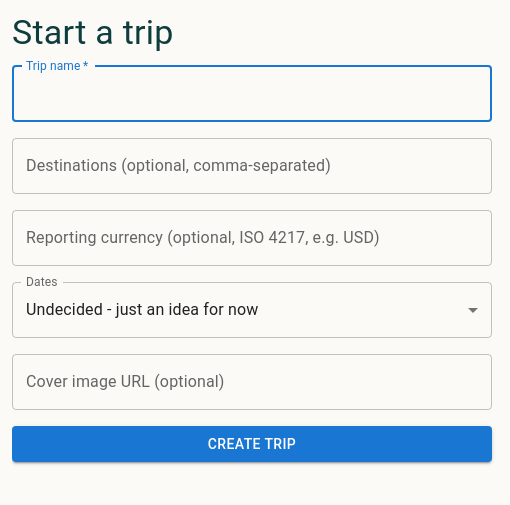
Test: CreateTripPage › shows a validation error when the name is left blank
Click the button with test id "submit-create-trip".
click(252, 444)  # box [12,426,492,462]
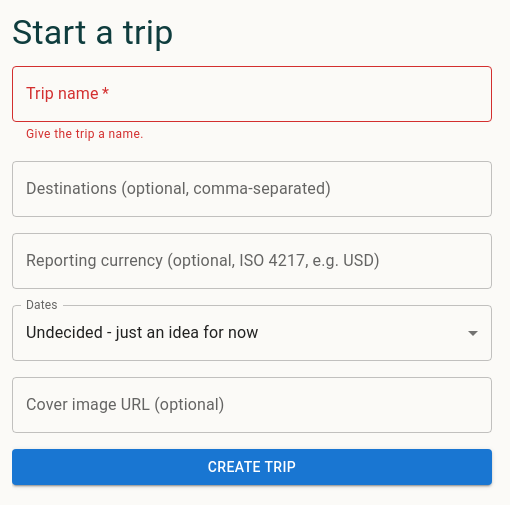
Expected: the text "Give the trip a name." is shown, [26,127,144,141]
